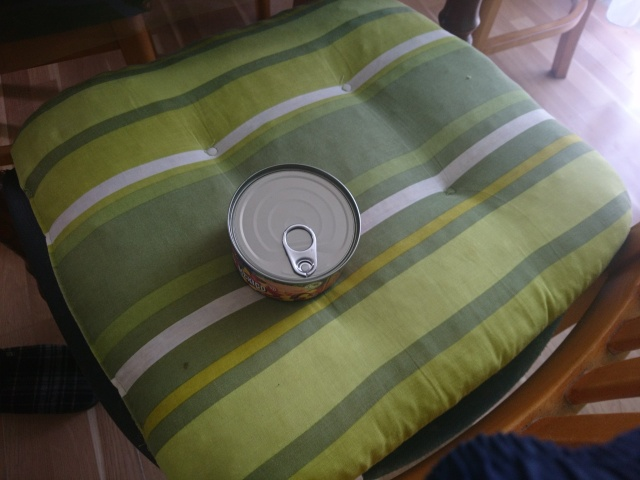Giana Tuna Salad Mexico 185g: (223, 161, 364, 305)
